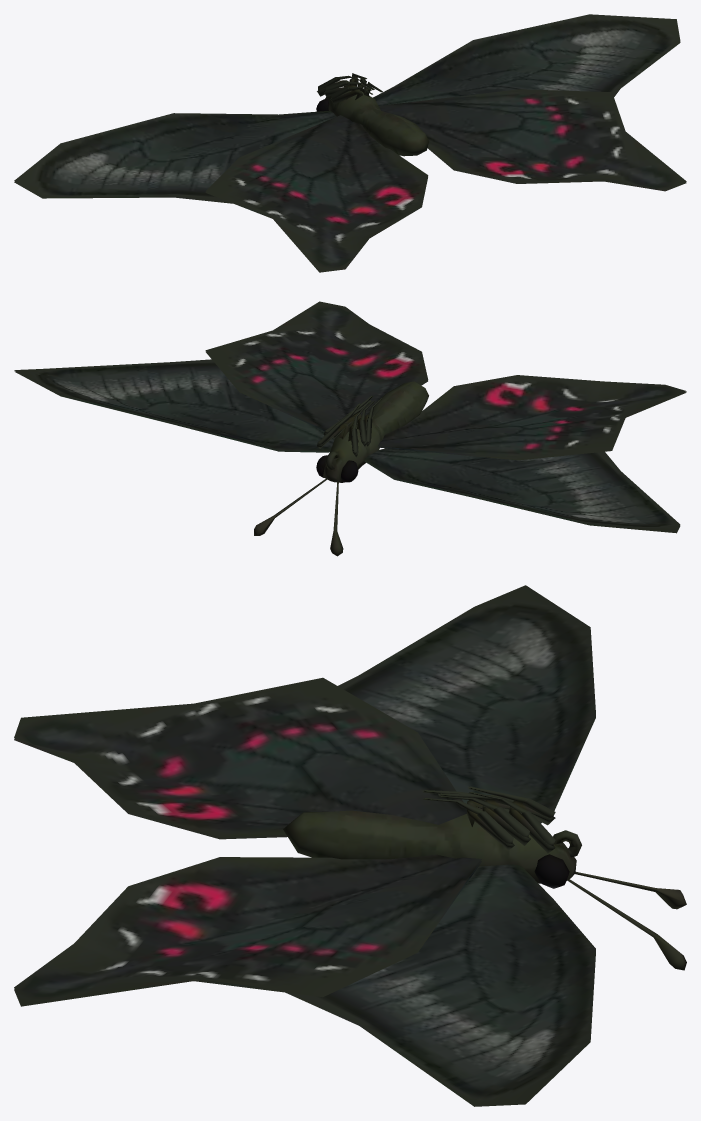
File: peacock-butterfly.glb
The picture shows the model from 3 angles, top to bottom: view 1: azimuth 30°, elevation 25°; view 2: azimuth 150°, elevation 25°; view 3: azimuth 270°, elevation 25°; orthographic projection. The views are drawn at different scales.
Parts seen in each view (by area): view 1: InsectKarasuageha_node7; view 2: InsectKarasuageha_node7; view 3: InsectKarasuageha_node7.
Boxes of the visible parts, <box> form: InsectKarasuageha_node7: <box>14,14,686,272</box>; InsectKarasuageha_node7: <box>14,301,686,556</box>; InsectKarasuageha_node7: <box>14,585,686,1106</box>.
Bounding box in the file's own units: 6.48 × 0.8733 × 3.56.
Materials: 1 (1 with a texture image).
